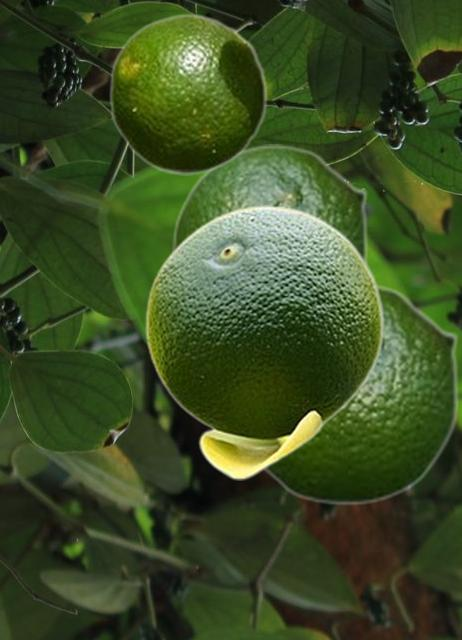calamansi: (145, 205, 383, 479), (263, 281, 459, 505), (108, 13, 267, 174), (172, 144, 368, 261)
